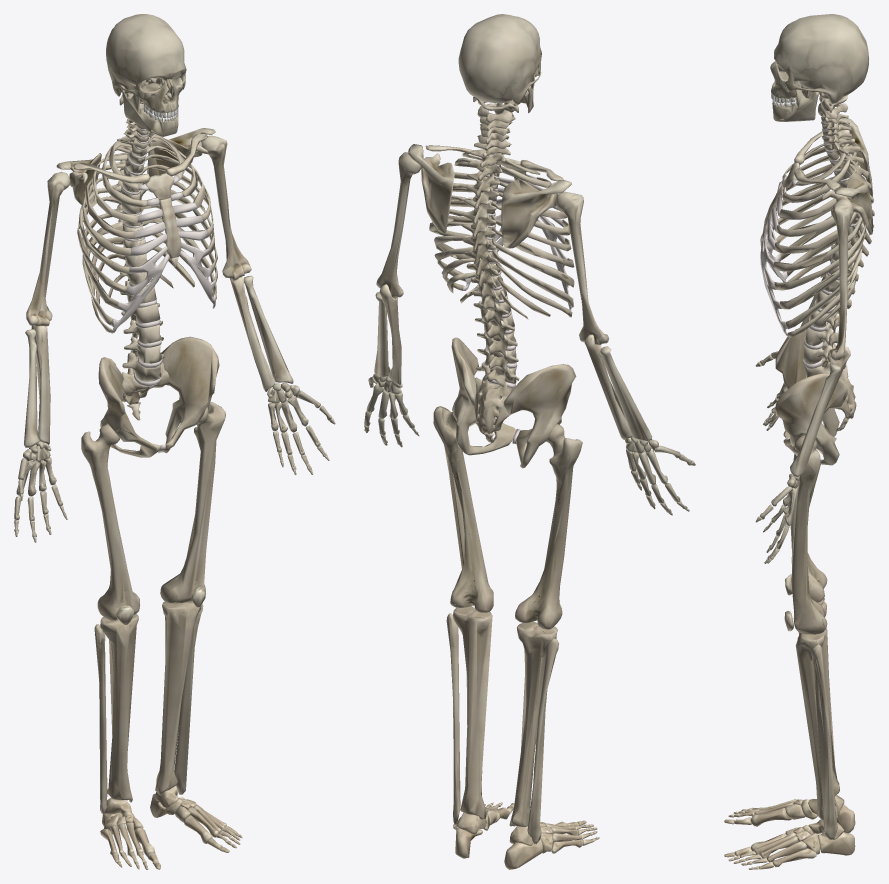
Rendered from skeletal_system.glb.
The picture shows the model from 3 angles, left to right: view 1: azimuth 30°, elevation 25°; view 2: azimuth 150°, elevation 25°; view 3: azimuth 270°, elevation 25°; orthographic projection. The views are drawn at different scales.
Visible parts, largest first — view 1: thorax, ilium, skull, L_femur, costal_cartilage, L_tibia, R_tibia, R_femur, lumbar_spine, R_humerus, L_humerus, thoracic_spine (+19 smaller); view 2: thorax, ilium, skull, L_femur, L_tibia, R_femur, thoracic_spine, R_tibia, R_scapula, lumbar_spine, L_scapula, R_humerus (+15 smaller); view 3: thorax, skull, ilium, L_femur, L_tibia, L_fibula, L_humerus, lumbar_spine, costal_cartilage, thoracic_spine, L_radius, L_metatarsal_bones (+20 smaller).
Boxes of the visible parts, box(x1,y1,x2,y2) form: thorax: box(77, 134, 217, 332); ilium: box(98, 336, 219, 457); skull: box(106, 14, 186, 112); L_femur: box(160, 402, 225, 603); costal_cartilage: box(110, 175, 215, 333); L_tibia: box(155, 601, 201, 795); R_tibia: box(100, 614, 138, 802); R_femur: box(81, 424, 139, 620); lumbar_spine: box(120, 281, 164, 381); R_humerus: box(26, 171, 70, 326); L_humerus: box(201, 135, 251, 280); thoracic_spine: box(109, 138, 152, 284); thorax: box(429, 151, 574, 319); ilium: box(451, 337, 576, 468); skull: box(458, 14, 541, 105); L_femur: box(433, 405, 493, 612); L_tibia: box(453, 606, 492, 819); R_femur: box(515, 424, 582, 629); thoracic_spine: box(462, 149, 506, 309); R_tibia: box(509, 622, 557, 827); R_scapula: box(501, 179, 571, 248); lumbar_spine: box(473, 295, 519, 387); L_scapula: box(408, 144, 454, 232); R_humerus: box(556, 191, 609, 344); thorax: box(774, 143, 866, 337); skull: box(770, 14, 868, 104); ilium: box(775, 328, 848, 465); L_femur: box(791, 435, 827, 634); L_tibia: box(795, 628, 840, 820); L_fibula: box(811, 644, 837, 839); L_humerus: box(829, 198, 853, 360); lumbar_spine: box(803, 291, 851, 377); costal_cartilage: box(760, 175, 797, 337); thoracic_spine: box(824, 137, 874, 294); L_radius: box(790, 364, 840, 476); L_metatarsal_bones: box(750, 831, 816, 867).
Bounding box in the file's own units: 0.7439 × 1.84 × 0.3029.
14 materials, 13 textured.
